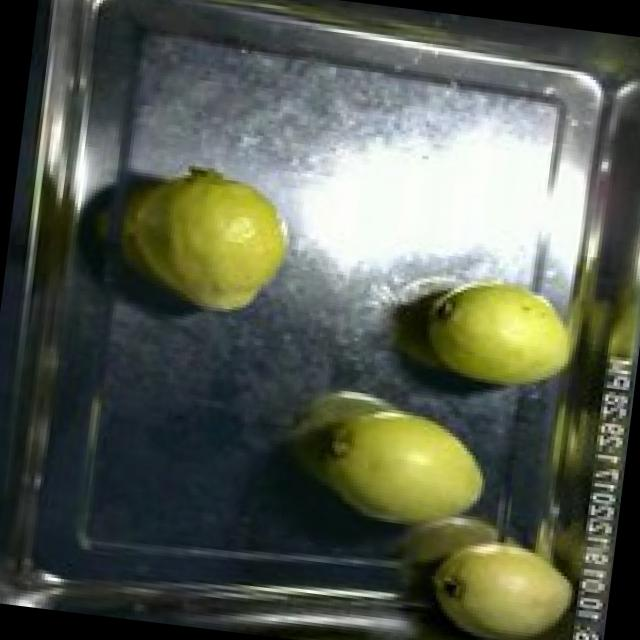Fruit: (102, 151, 306, 329), (308, 385, 506, 547), (411, 507, 607, 640), (406, 258, 586, 402)
